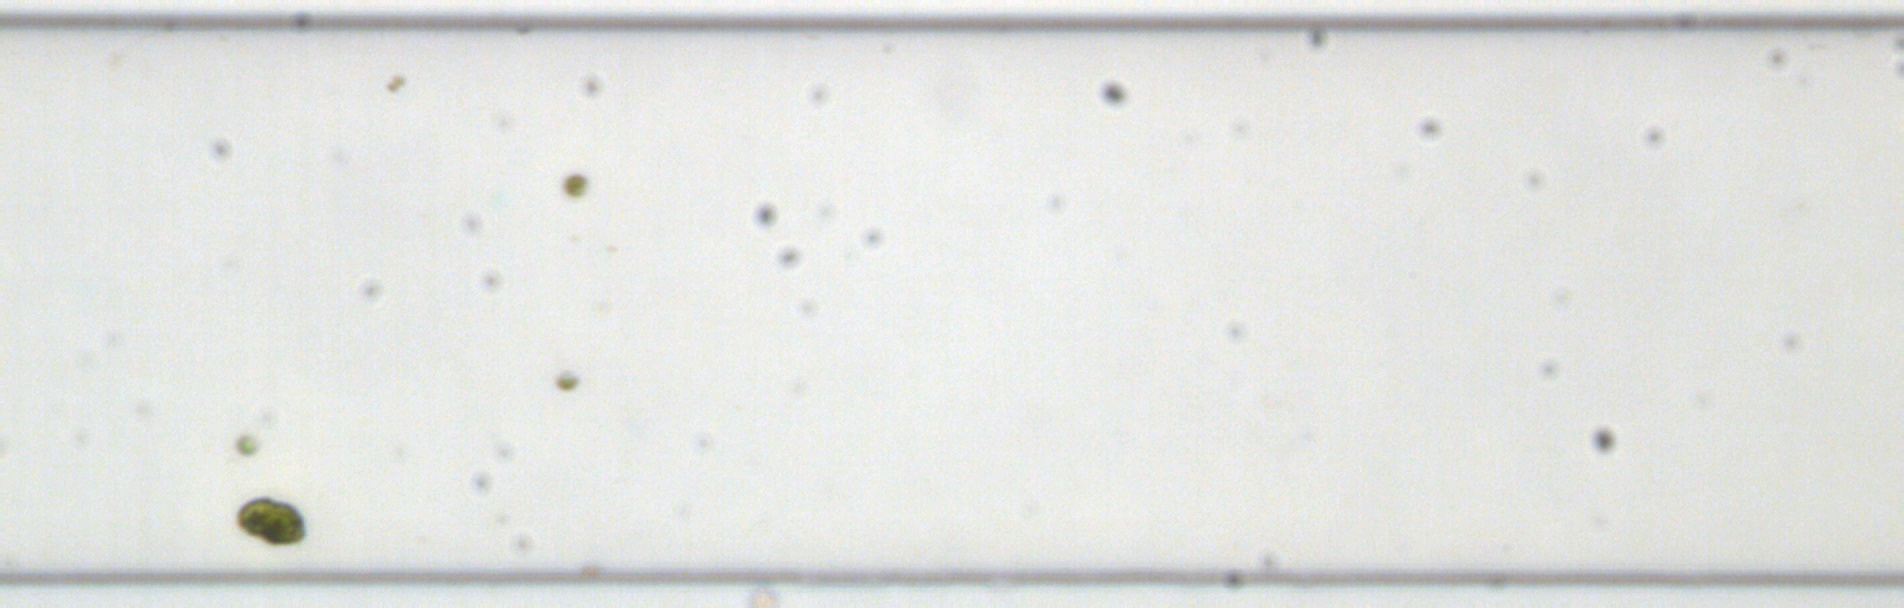Chlorella: (561, 171, 588, 197), (554, 368, 579, 393), (234, 431, 259, 458)
Platymonas: (232, 491, 308, 546)
